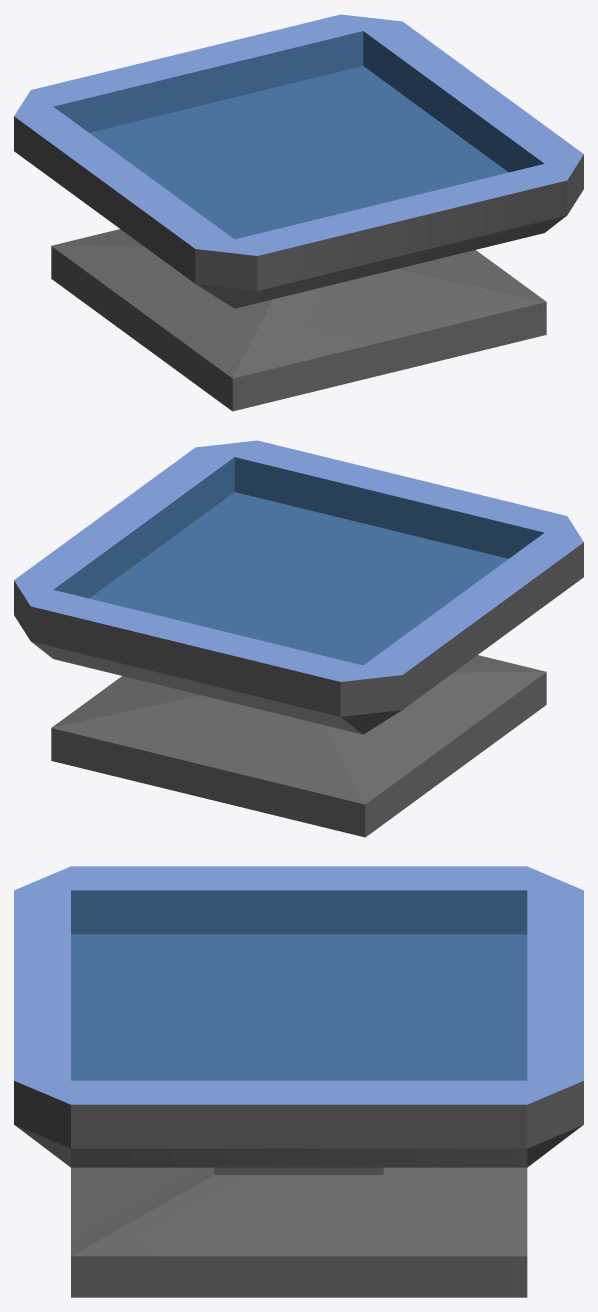
Rendered from for_tower.fbx.
3 views of the same model, one above another, from view 1: azimuth 30°, elevation 25°; view 2: azimuth 150°, elevation 25°; view 3: azimuth 270°, elevation 25° (orthographic). The views are drawn at different scales.
Visible parts, largest first — view 1: block; view 2: block; view 3: block.
Boxes of the visible parts, x1,y1,x2,y2 form: block: (14, 14, 583, 411); block: (14, 440, 583, 837); block: (14, 866, 583, 1297).
Size of the model in its own units: 250 by 247 by 104.
1 material, 1 textured.
